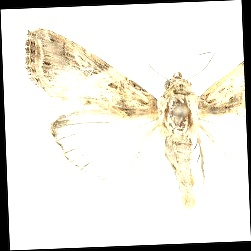Spodoptera litura: (26, 23, 246, 215)
